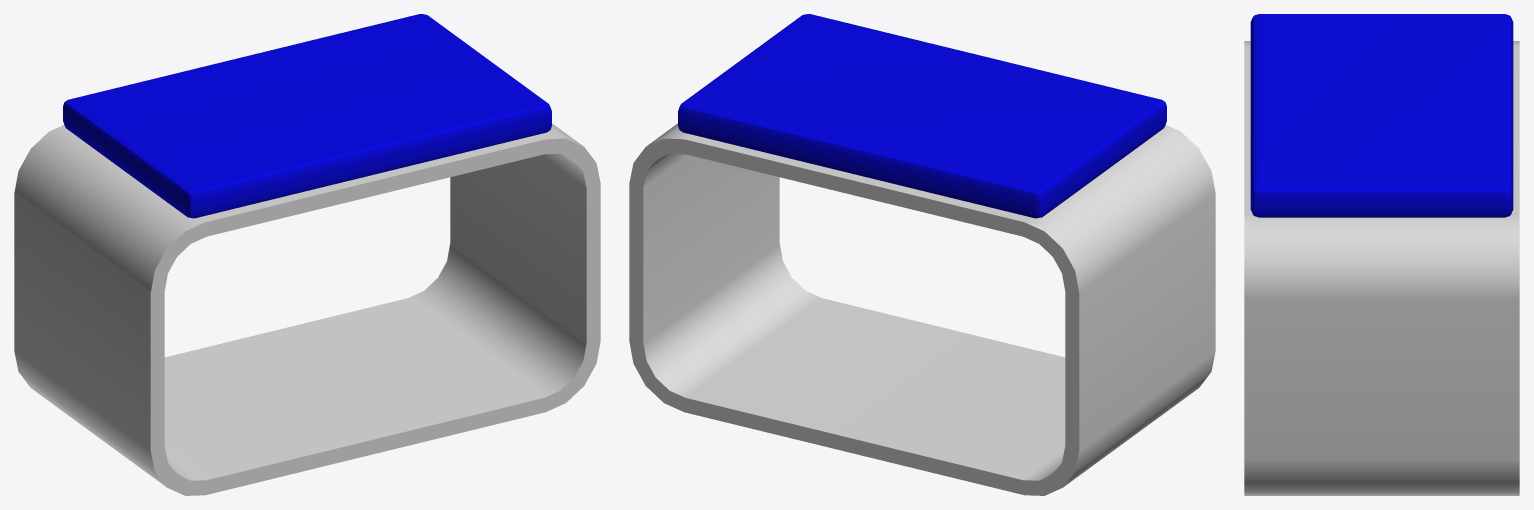
Rendered from modern_chair.fbx.
3 views of the same model, side by side, from view 1: azimuth 30°, elevation 25°; view 2: azimuth 150°, elevation 25°; view 3: azimuth 270°, elevation 25° (orthographic).
Parts seen in each view (by area): view 1: pCube2, pCube3; view 2: pCube2, pCube3; view 3: pCube2, pCube3.
Boxes of the visible parts, x1,y1,x2,y2 form: pCube2: (14, 123, 600, 495); pCube3: (63, 14, 551, 218); pCube2: (629, 123, 1215, 495); pCube3: (678, 14, 1166, 218); pCube2: (1244, 41, 1519, 495); pCube3: (1250, 14, 1513, 217).
Size of the model in its own units: 160 by 103 by 84.
